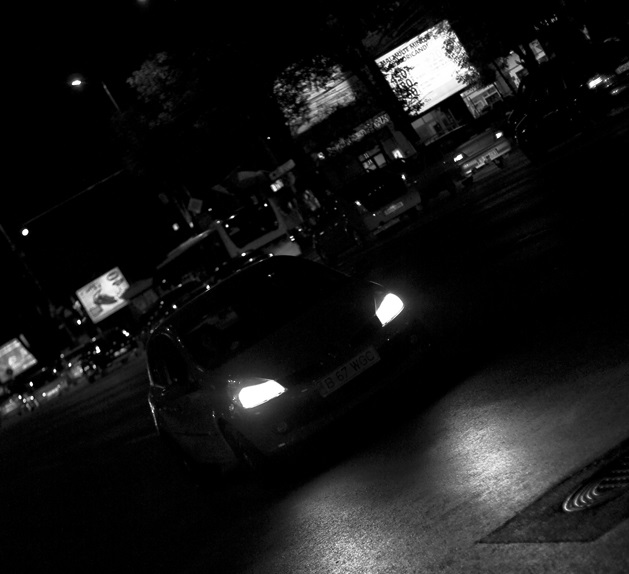car: (129, 238, 436, 492)
